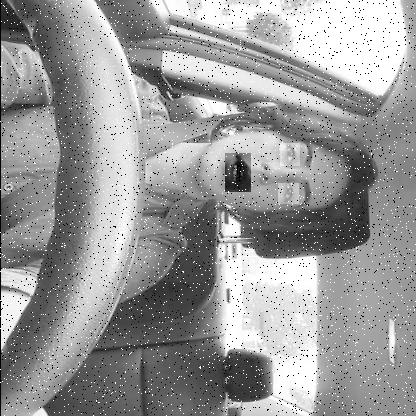seatbelt: (0, 102, 384, 228)
